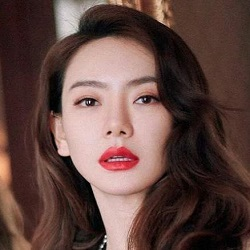unmask: (54, 51, 184, 193)
